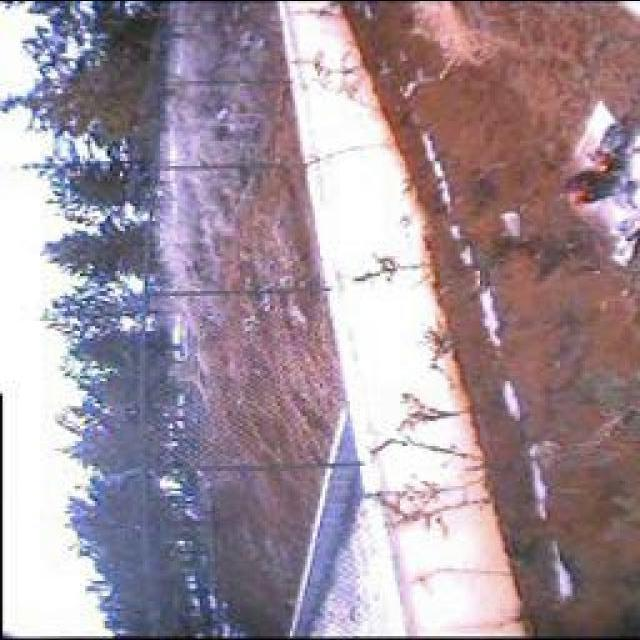Fire: (554, 143, 621, 212)
